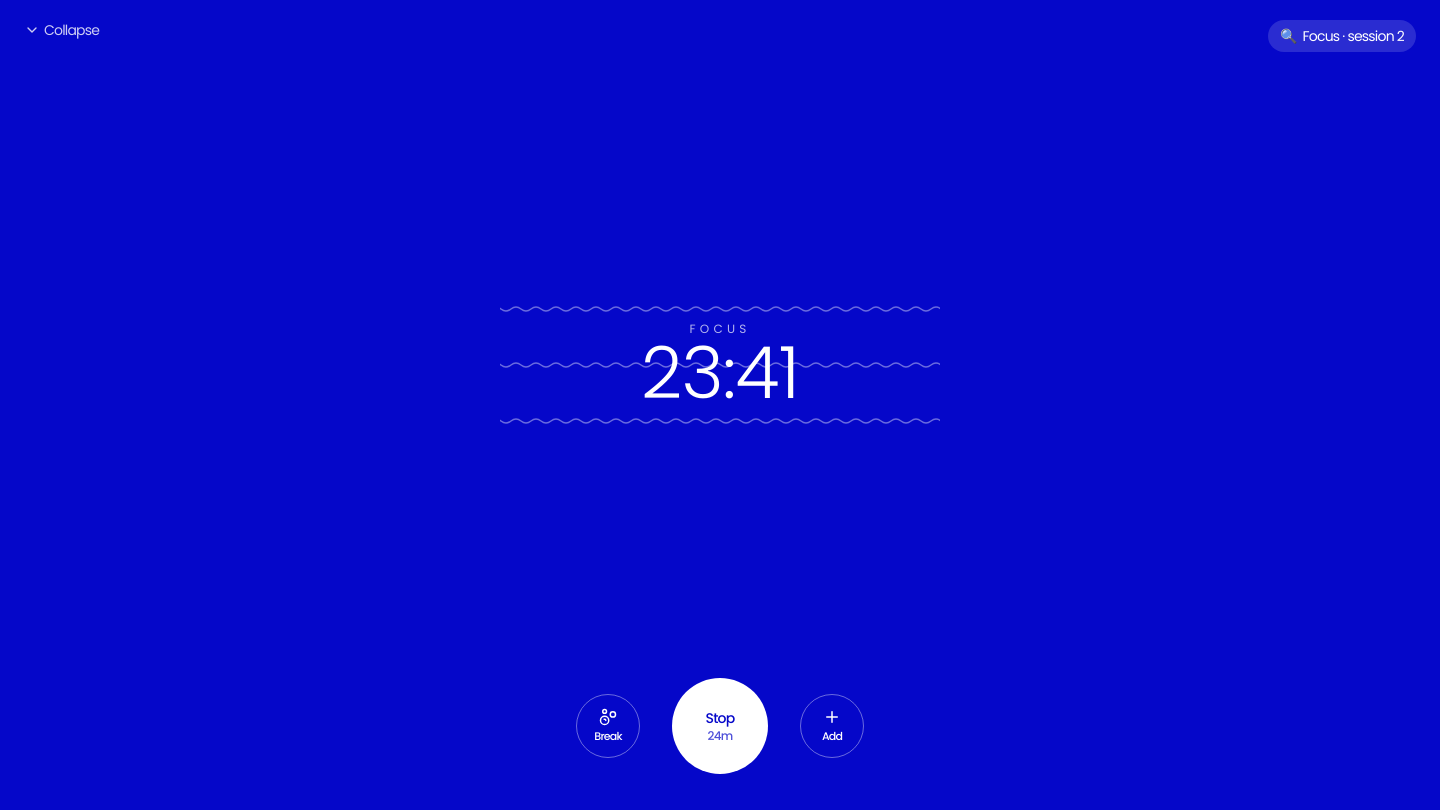
the focus screen › stops behind a confirm, like the band
This screenshot has width=1440, height=810.
Click the button with aria-label "Stop ·".
click(720, 726)  # box [672,678,768,774]
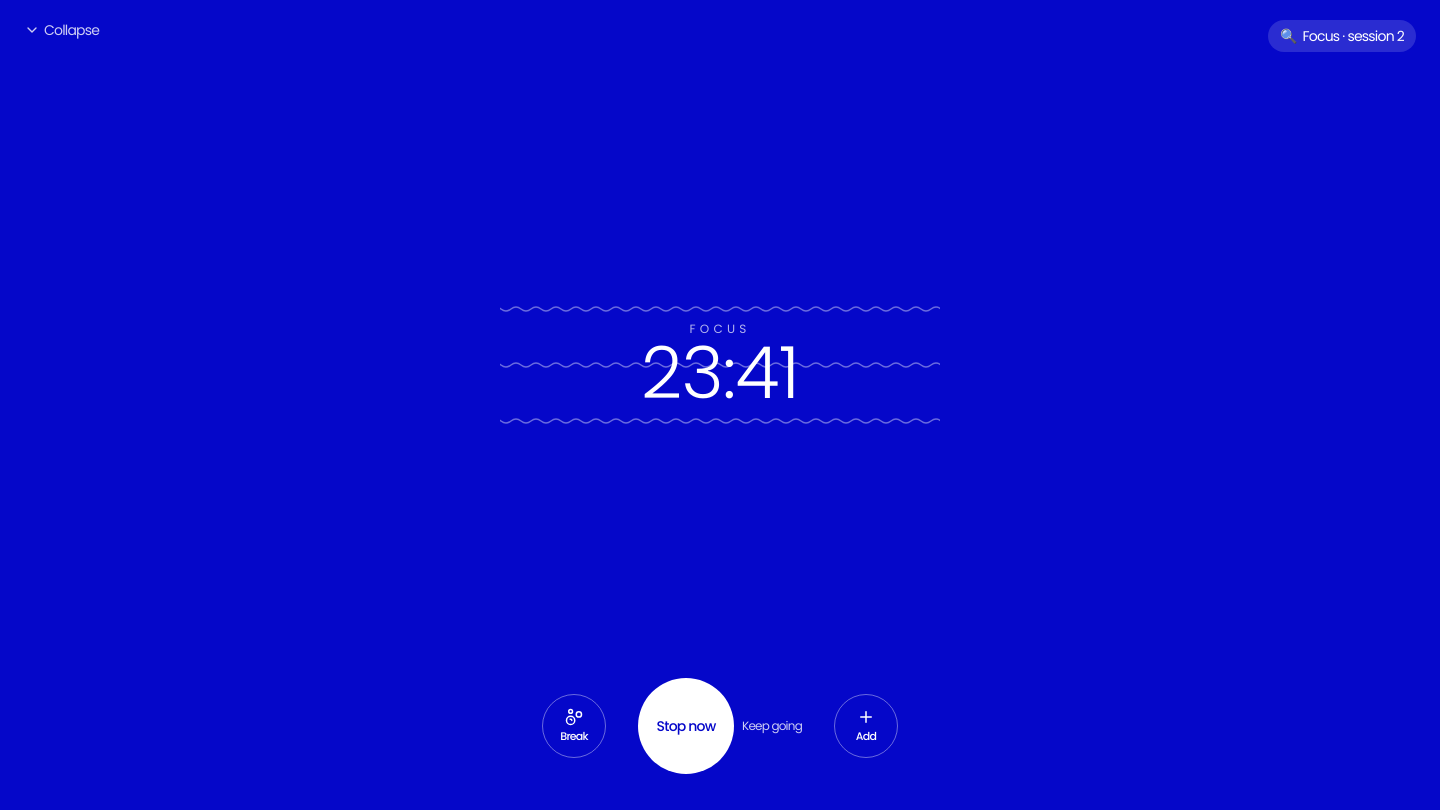
expect the button "Stop now" is shown: met, box [638,678,734,774]
